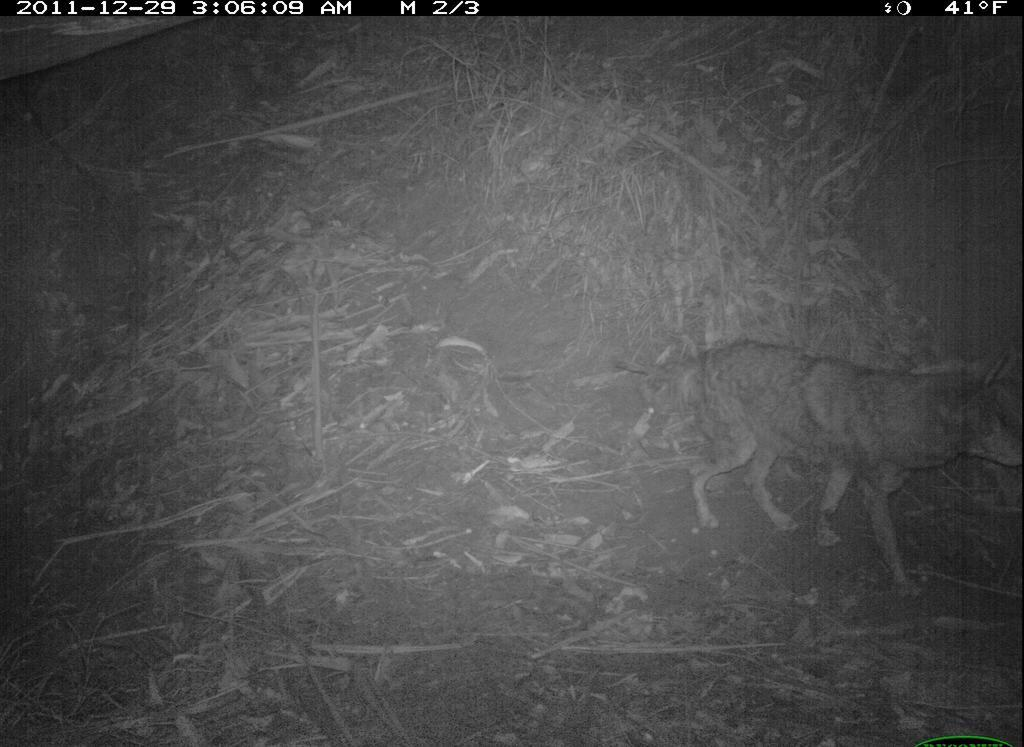coyote: (683, 326, 1019, 584)
